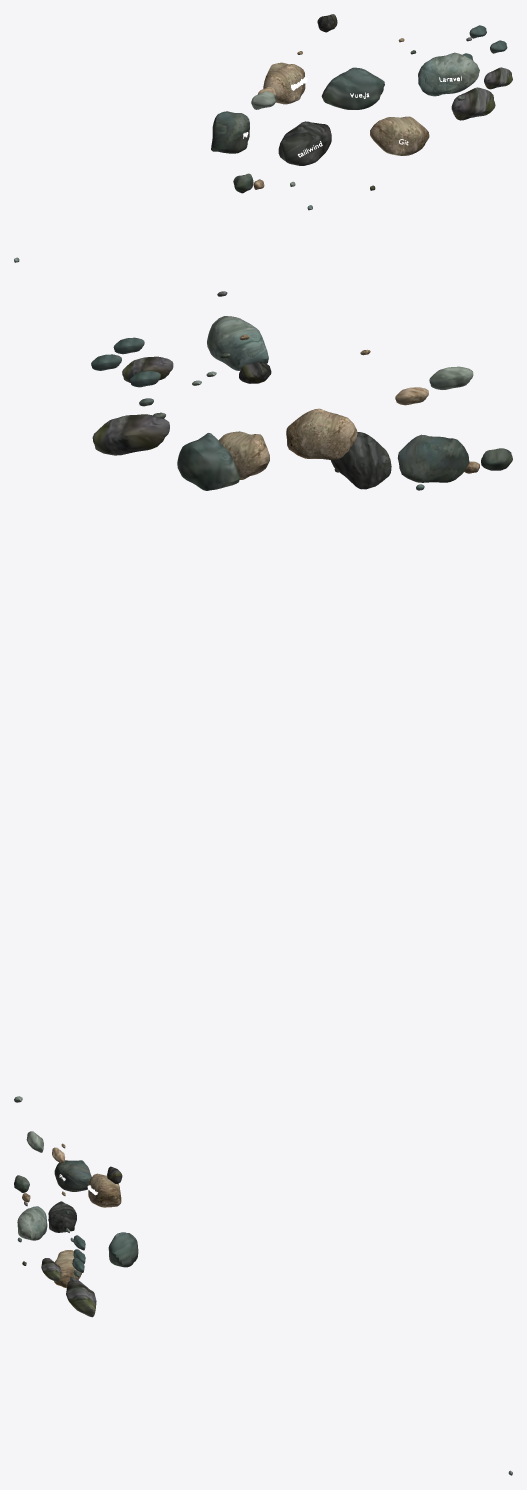
Rendered from skills.glb.
3 renders of one model, top to bottom at view 1: azimuth 30°, elevation 25°; view 2: azimuth 150°, elevation 25°; view 3: azimuth 270°, elevation 25°, orthographic. The views are drawn at different scales.
Visible parts, largest first — view 1: asteroide_lara, asteroide_vue, asteroide_git, asteroide_tail, asteroide_php, blender, debris9, debris9.001, debris11, debris7, debris10; view 2: blender, asteroide_php, asteroide_vue, debris9, asteroide_lara, asteroide_tail, asteroide_git; view 3: asteroide_php, blender, asteroide_vue, asteroide_lara, debris9, asteroide_tail, asteroide_git.
Part boxes in pixels (x1,y1,x2,y2): asteroide_lara: [418, 52, 479, 96]; asteroide_vue: [321, 67, 384, 109]; asteroide_git: [370, 116, 429, 155]; asteroide_tail: [278, 121, 331, 165]; asteroide_php: [211, 111, 249, 153]; blender: [263, 62, 308, 104]; debris9: [451, 87, 495, 120]; debris9.001: [484, 67, 512, 89]; debris11: [251, 91, 275, 109]; debris7: [233, 173, 253, 193]; debris10: [317, 14, 337, 32]; blender: [286, 408, 357, 459]; asteroide_php: [397, 434, 469, 482]; asteroide_vue: [177, 433, 240, 490]; debris9: [92, 414, 169, 455]; asteroide_lara: [207, 316, 268, 370]; asteroide_tail: [330, 432, 391, 489]; asteroide_git: [218, 431, 269, 479]; asteroide_php: [54, 1160, 91, 1191]; blender: [87, 1173, 121, 1207]; asteroide_vue: [108, 1232, 138, 1267]; asteroide_lara: [16, 1206, 47, 1240]; debris9: [66, 1279, 96, 1317]; asteroide_tail: [48, 1201, 76, 1232]; asteroide_git: [54, 1250, 81, 1288].
Bounding box in the file's own units: 51.06 × 66.12 × 90.88.
4 materials, 3 textured.
